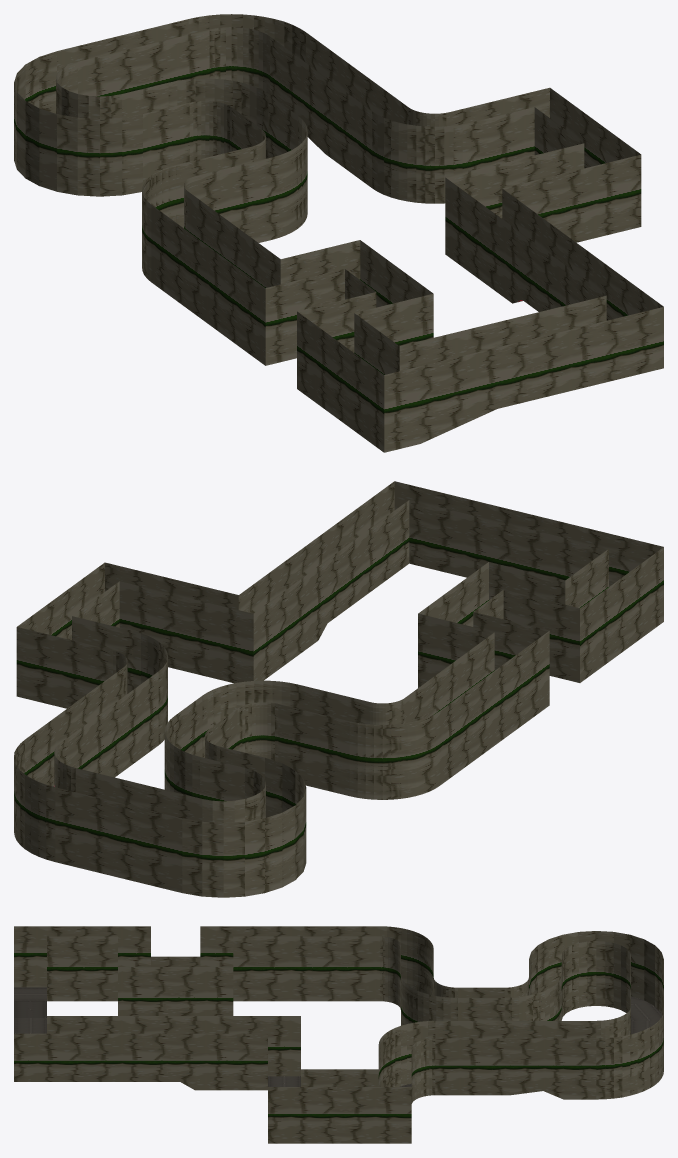
3 views of the same model, one above another, from view 1: azimuth 30°, elevation 25°; view 2: azimuth 150°, elevation 25°; view 3: azimuth 270°, elevation 25° (orthographic). The views are drawn at different scales.
Visible parts, largest first — view 1: Luigi_s_Hacked_Circuit-SKP--wall; view 2: Luigi_s_Hacked_Circuit-SKP--wall; view 3: Luigi_s_Hacked_Circuit-SKP--wall, Luigi_s_Hacked_Circuit-SKP--road.
Part boxes in pixels (left/top/right/bottom): Luigi_s_Hacked_Circuit-SKP--wall: left=14, top=14, right=663, bottom=452; Luigi_s_Hacked_Circuit-SKP--wall: left=14, top=481, right=663, bottom=897; Luigi_s_Hacked_Circuit-SKP--wall: left=14, top=926, right=663, bottom=1143; Luigi_s_Hacked_Circuit-SKP--road: left=14, top=987, right=662, bottom=1086.
Size of the model in its own units: 40452 by 7614 by 69200.
Materials: 5 (5 with a texture image).
